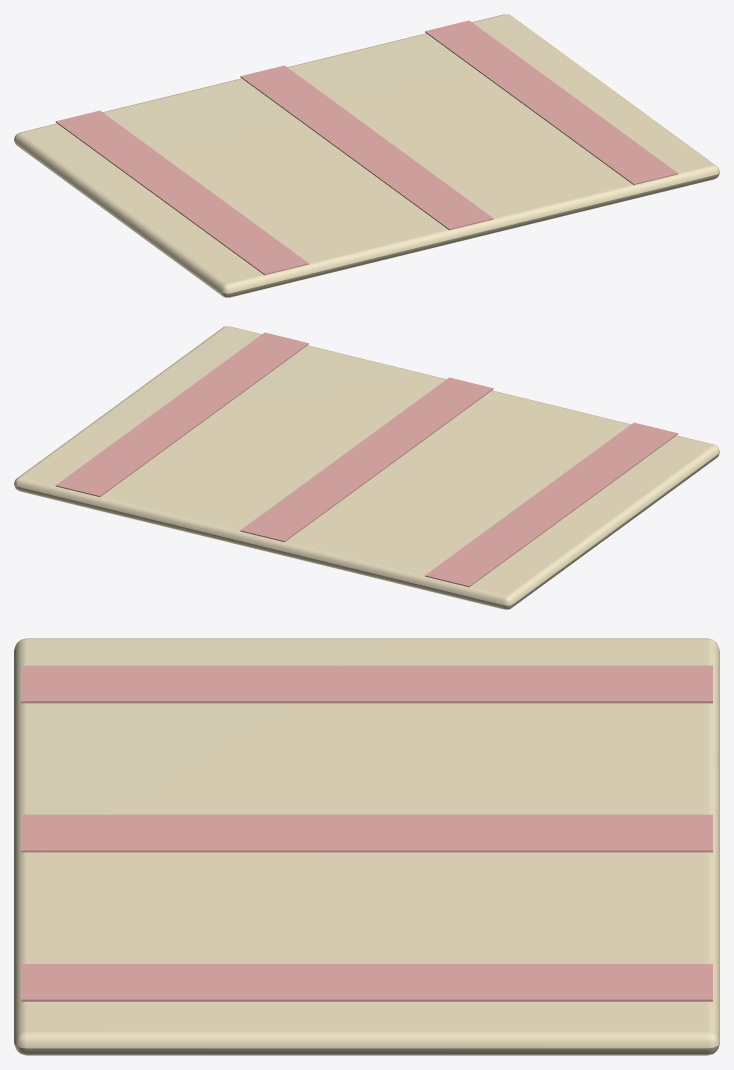
The picture shows the model from 3 angles, top to bottom: view 1: azimuth 30°, elevation 25°; view 2: azimuth 150°, elevation 25°; view 3: azimuth 270°, elevation 25°; orthographic projection. The views are drawn at different scales.
Visible parts, largest first — view 1: Picnic blanket, Stripe, Stripe.001, Stripe.002; view 2: Picnic blanket, Stripe, Stripe.001, Stripe.002; view 3: Picnic blanket, Stripe, Stripe.001, Stripe.002.
Boxes of the visible parts, x1,y1,x2,y2 form: Picnic blanket: [14, 14, 719, 297]; Stripe: [55, 110, 308, 275]; Stripe.001: [240, 65, 493, 230]; Stripe.002: [425, 20, 678, 184]; Picnic blanket: [14, 326, 719, 609]; Stripe: [425, 422, 678, 587]; Stripe.001: [240, 377, 493, 542]; Stripe.002: [55, 332, 308, 496]; Picnic blanket: [14, 638, 719, 1055]; Stripe: [21, 665, 712, 703]; Stripe.001: [21, 814, 712, 852]; Stripe.002: [21, 964, 712, 1001].
Bounding box in the file's own units: 1.35 × 0.0405 × 1.
